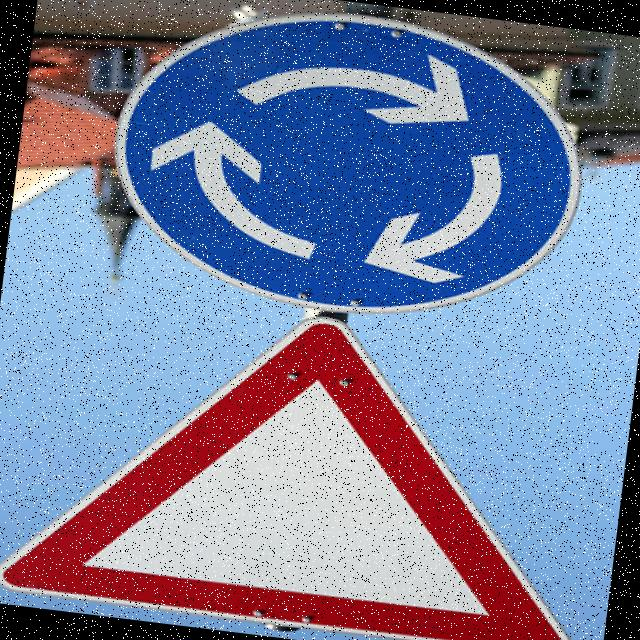give_way: (0, 278, 618, 640)
